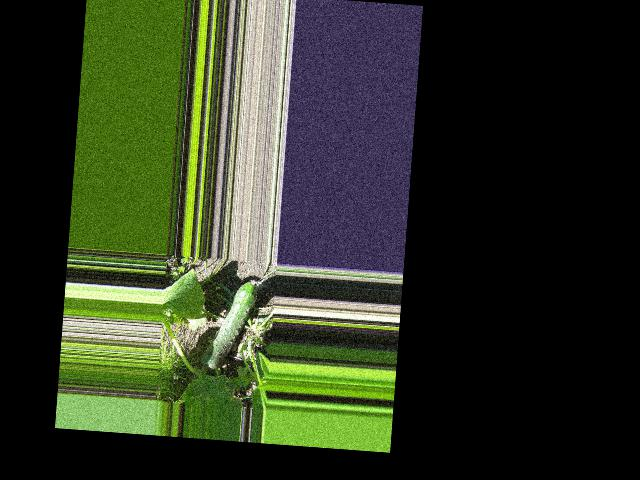cucumber: (200, 277, 258, 373)
